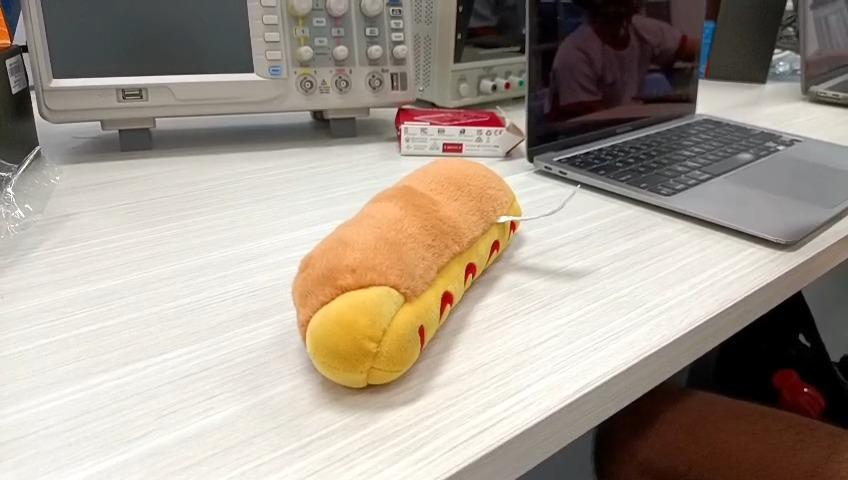hotdog: (293, 159, 524, 387)
